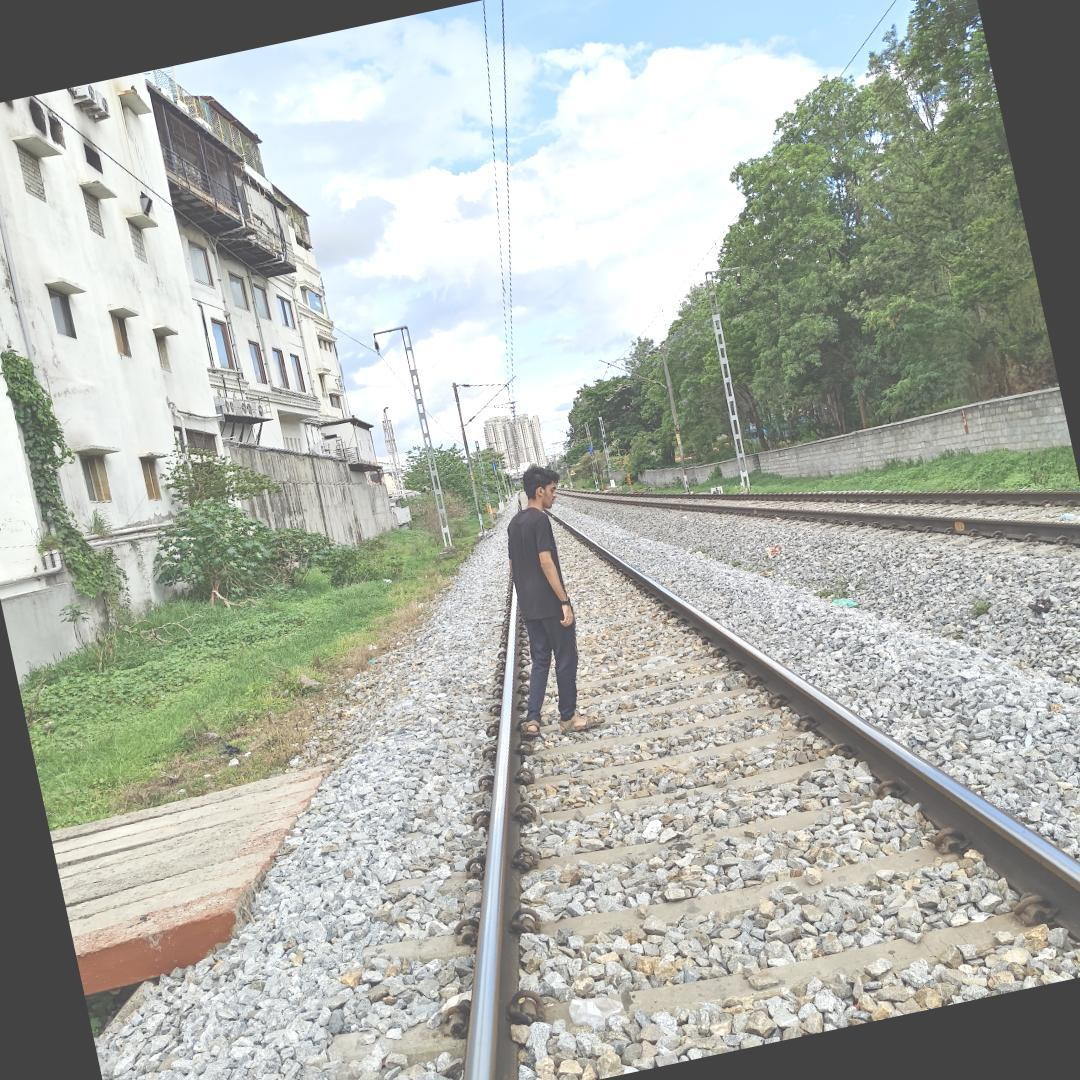standing: (489, 456, 608, 766)
